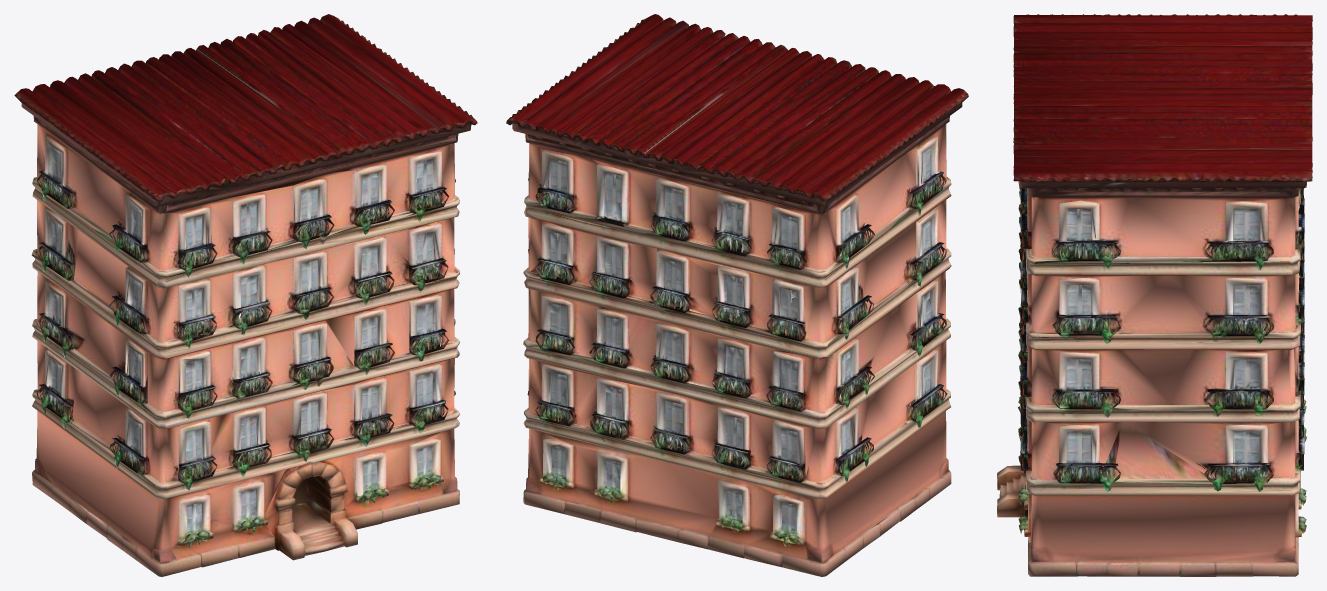
Rendered from gedung-plaza-g03.glb.
3 views of the same model, side by side, from view 1: azimuth 30°, elevation 25°; view 2: azimuth 150°, elevation 25°; view 3: azimuth 270°, elevation 25° (orthographic). The views are drawn at different scales.
Visible parts, largest first — view 1: node_0; view 2: node_0; view 3: node_0.
Boxes of the visible parts, left/top/right/bottom form: node_0: left=14, top=14, right=477, bottom=576; node_0: left=506, top=14, right=968, bottom=576; node_0: left=997, top=14, right=1312, bottom=576.
Size of the model in its own units: 0.7 by 0.813 by 0.5707.
Materials: 1 (1 with a texture image).
